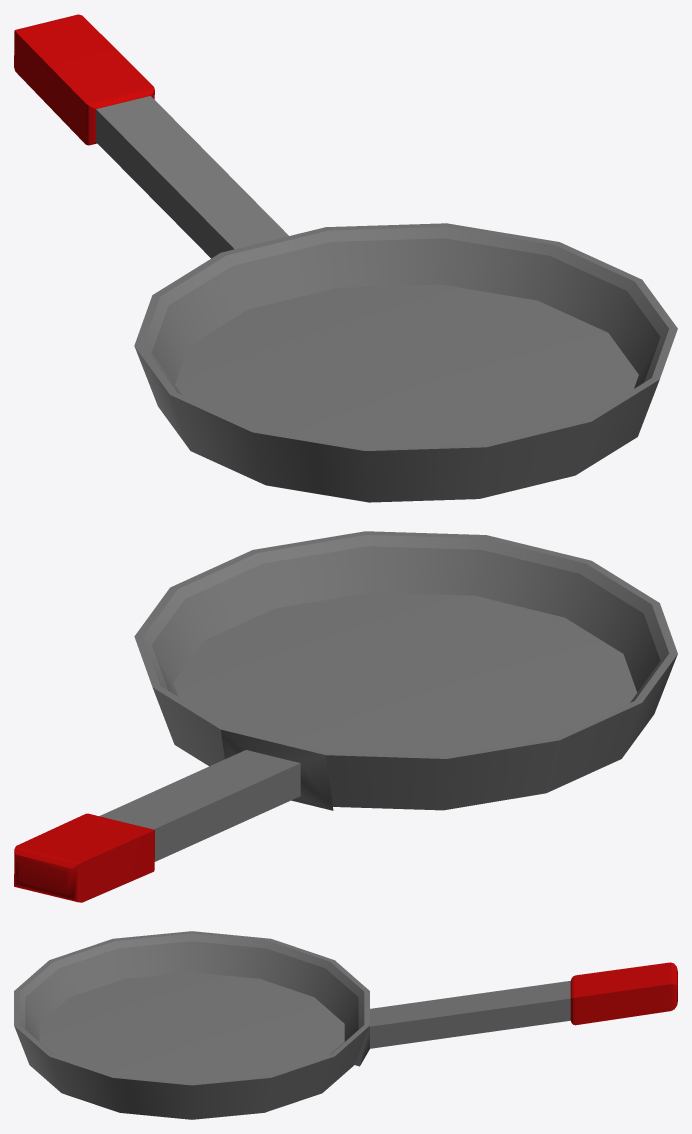
The model's file is pan.fbx.
The picture shows the model from 3 angles, top to bottom: view 1: azimuth 30°, elevation 25°; view 2: azimuth 150°, elevation 25°; view 3: azimuth 270°, elevation 25°; orthographic projection. The views are drawn at different scales.
Visible parts, largest first — view 1: pan; view 2: pan; view 3: pan.
Boxes of the visible parts, x1=… form: pan: x1=14, y1=14, x2=677, y2=502; pan: x1=14, y1=531, x2=677, y2=902; pan: x1=14, y1=931, x2=677, y2=1119.
Bounding box in the file's own units: 131 × 30.19 × 239.
